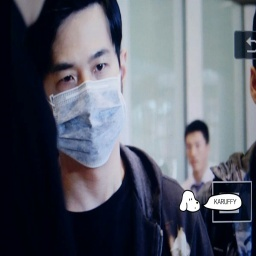correctlyWear: (39, 44, 128, 168)
noWear: (184, 134, 208, 171)
